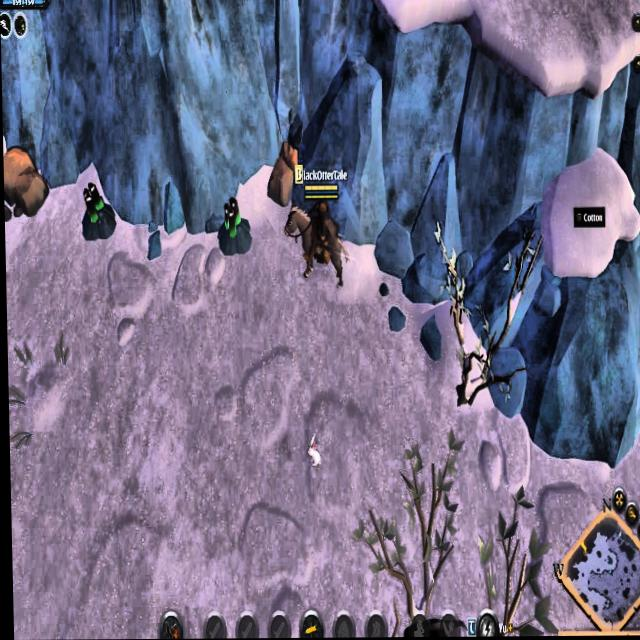limestone: (3, 144, 50, 220), (266, 143, 301, 204)
tinore: (78, 178, 119, 245), (211, 197, 256, 255)
